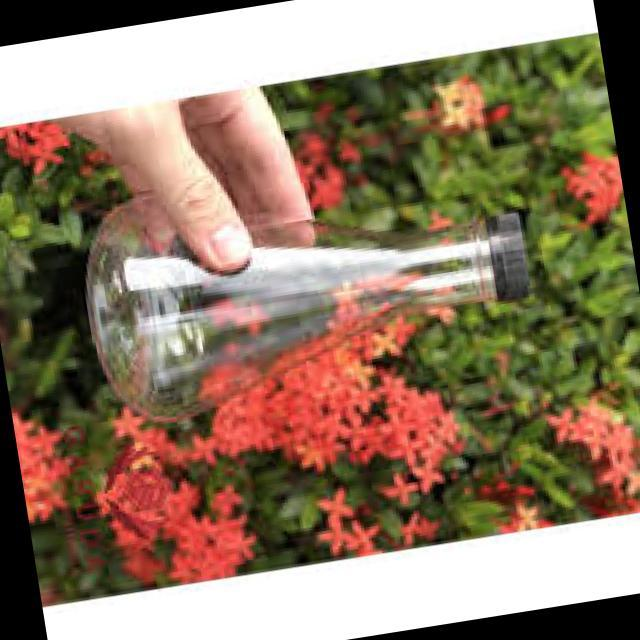good: (66, 139, 545, 442)
